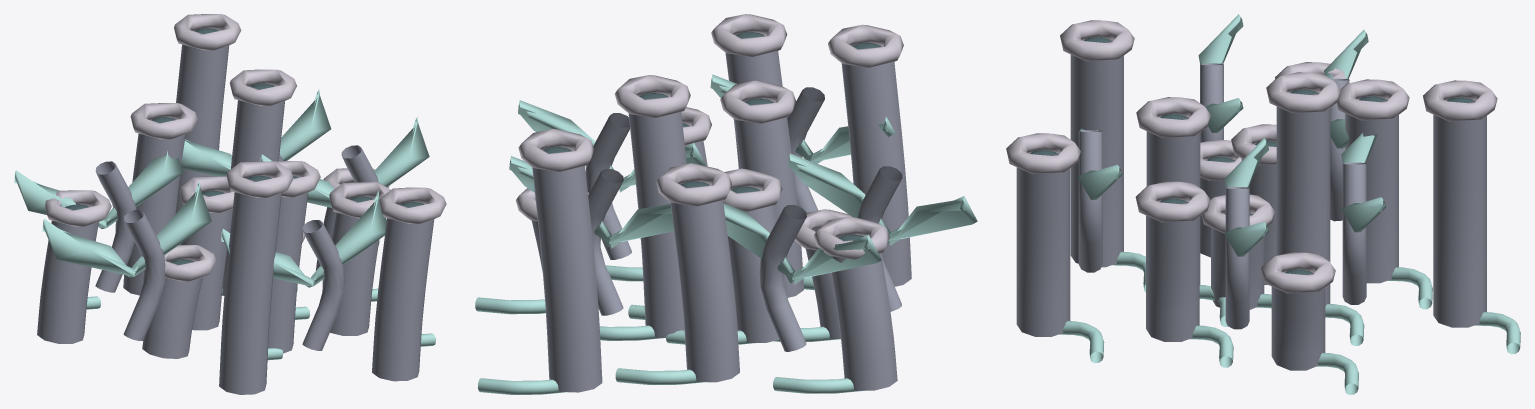
Rendered from bio_thermal_colony_12_far.glb.
The picture shows the model from 3 angles, left to right: view 1: azimuth 30°, elevation 25°; view 2: azimuth 150°, elevation 25°; view 3: azimuth 270°, elevation 25°; orthographic projection. The views are drawn at different scales.
Visible parts, largest first — view 1: Chimney biofilm.007, Chimney biofilm.010, Chimney biofilm.009, Chimney biofilm.011, Secondary fan lobe.008, Chimney biofilm.002, Chimney biofilm.004, Chimney biofilm.005, Chimney biofilm.006, Secondary fan lobe.006, Branching support.002, Branching support.004 (+18 smaller); view 2: Chimney biofilm.011, Chimney biofilm.006, Chimney biofilm.007, Chimney biofilm.003, Chimney biofilm.009, Secondary fan lobe.008, Chimney biofilm.002, Branching support.001, Chimney biofilm.001, Secondary fan lobe.002, Branching support.003, Open vent rim.011 (+24 smaller); view 3: Chimney biofilm.011, Chimney biofilm.010, Chimney biofilm.003, Chimney biofilm.007, Chimney biofilm.005, Chimney biofilm.006, Chimney biofilm.008, Branching support, Branching support.003, Branching support.002, Chimney biofilm.002, Open vent rim.007 (+28 smaller).
Boxes of the visible parts, box(x1,y1,x2,y2) form: Chimney biofilm.007: box(219, 192, 281, 394); Chimney biofilm.010: box(372, 218, 434, 381); Chimney biofilm.009: box(37, 220, 98, 343); Chimney biofilm.011: box(176, 44, 229, 244); Secondary fan lobe.008: box(42, 181, 211, 277); Chimney biofilm.002: box(268, 192, 308, 353); Chimney biofilm.004: box(142, 277, 202, 358); Chimney biofilm.005: box(330, 212, 379, 335); Chimney biofilm.006: box(123, 133, 185, 295); Secondary fan lobe.006: box(181, 89, 331, 176); Branching support.002: box(302, 220, 344, 350); Branching support.004: box(123, 210, 165, 340); Chimney biofilm.011: box(532, 150, 602, 392); Chimney biofilm.006: box(670, 184, 739, 382); Chimney biofilm.007: box(841, 45, 911, 286); Chimney biofilm.003: box(628, 112, 686, 337); Chimney biofilm.009: box(831, 237, 897, 390); Secondary fan lobe.008: box(788, 153, 977, 245); Chimney biofilm.002: box(734, 101, 803, 297); Branching support.001: box(759, 205, 806, 351); Chimney biofilm.001: box(727, 189, 787, 342); Secondary fan lobe.002: box(723, 203, 881, 284); Branching support.003: box(588, 169, 623, 315); Open vent rim.011: box(518, 129, 594, 171); Chimney biofilm.011: box(1433, 101, 1486, 327); Chimney biofilm.010: box(1016, 153, 1070, 336); Chimney biofilm.003: box(1276, 93, 1330, 306); Chimney biofilm.007: box(1070, 41, 1123, 267); Chimney biofilm.005: box(1146, 202, 1199, 341); Chimney biofilm.006: box(1345, 100, 1398, 283); Chimney biofilm.008: box(1271, 272, 1325, 370); Branching support: box(1225, 187, 1249, 329); Branching support.003: box(1342, 162, 1366, 304); Branching support.002: box(1078, 130, 1102, 272); Chimney biofilm.002: box(1146, 117, 1200, 284); Open vent rim.007: box(1060, 20, 1134, 61).
Size of the model in its own units: 1.85 by 0.9903 by 1.92.
